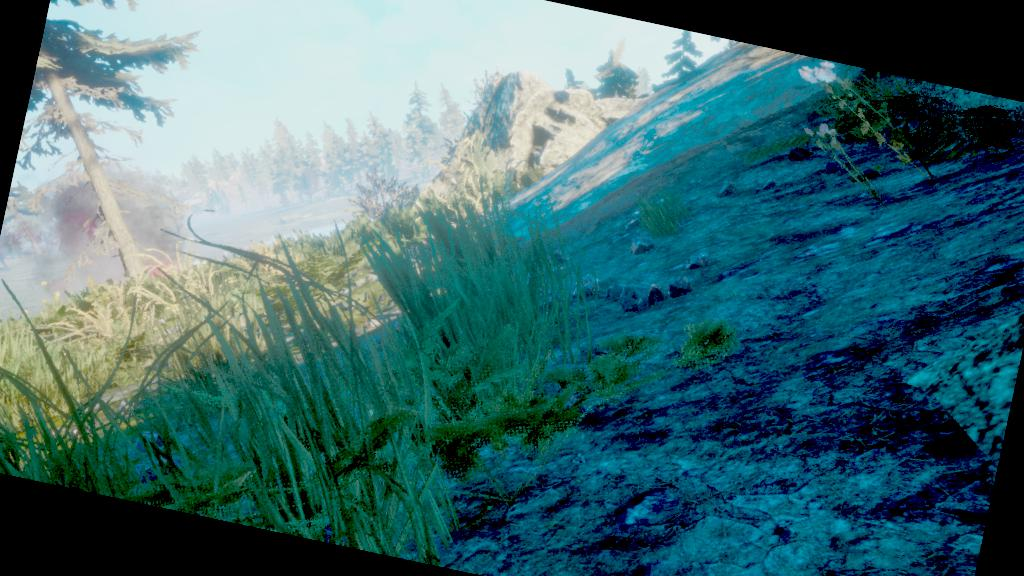smoke: (22, 156, 204, 315)
